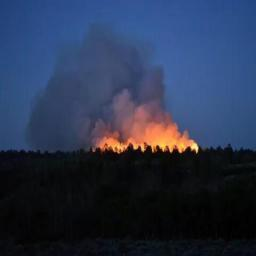Heavy smoke: (21, 25, 207, 161)
Medium fire: (88, 113, 202, 157)
